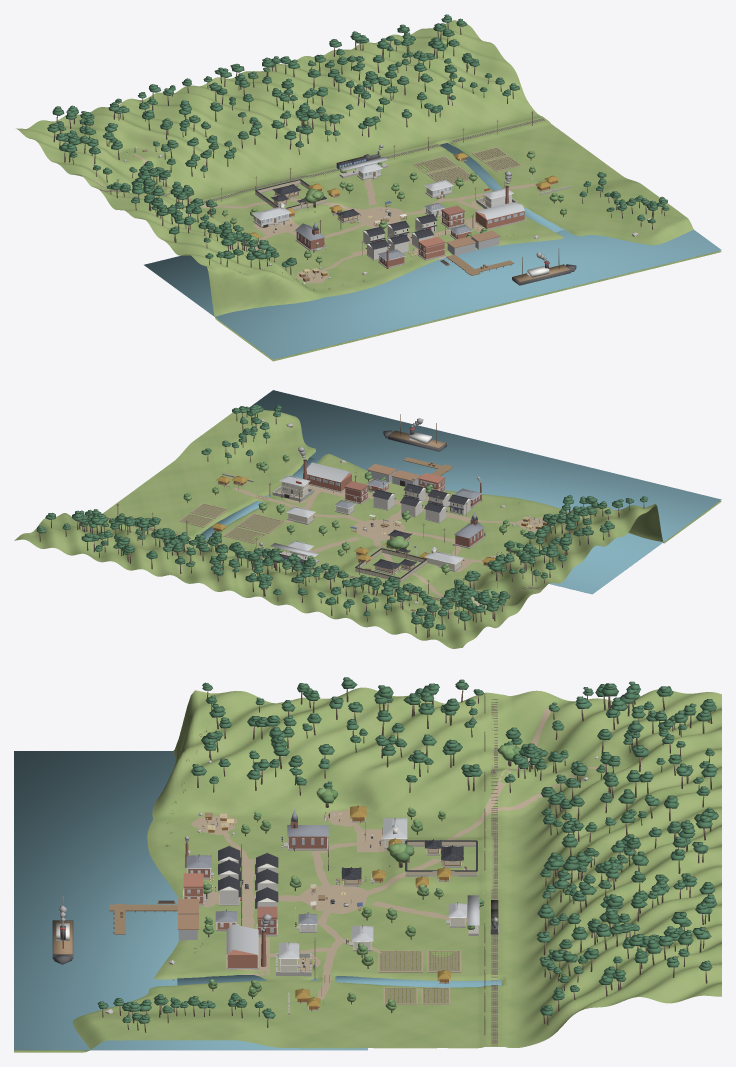
File: gaehang.glb
The picture shows the model from 3 angles, top to bottom: view 1: azimuth 30°, elevation 25°; view 2: azimuth 150°, elevation 25°; view 3: azimuth 270°, elevation 25°; orthographic projection. The views are drawn at different scales.
Parts seen in each view (by area): view 1: ground, static_water, static_pine, static_dirt, static_bark, static_tile, static_zinc, static_white, static_paddy, static_leaf2, static_wood, static_rice (+2 smaller); view 2: ground, static_water, static_pine, static_dirt, static_bark, static_tile, static_zinc, static_paddy, static_leaf2, static_white, static_rice, static_wood (+3 smaller); view 3: ground, static_water, static_pine, static_dirt, static_bark, static_zinc, static_tile, static_paddy, static_leaf2, static_slate, static_leaf, static_rice (+4 smaller).
Boxes of the visible parts, x1,y1,x2,y2 form: ground: (16, 20, 721, 361); static_water: (144, 143, 721, 359); static_pine: (47, 14, 669, 267); static_dirt: (90, 147, 536, 283); static_bark: (53, 23, 559, 277); static_tile: (255, 179, 437, 249); static_zinc: (252, 157, 524, 269); static_white: (220, 120, 549, 277); static_paddy: (415, 148, 519, 183); static_leaf2: (141, 151, 566, 262); static_wood: (117, 112, 569, 281); static_rice: (239, 148, 559, 290); ground: (14, 408, 721, 648); static_water: (200, 390, 721, 594); static_pine: (36, 404, 648, 629); static_dirt: (179, 484, 544, 611); static_bark: (39, 414, 644, 637); static_tile: (355, 483, 470, 578); static_zinc: (270, 462, 526, 564); static_paddy: (181, 504, 281, 542); static_leaf2: (183, 454, 526, 599); static_white: (152, 432, 498, 580); static_rice: (181, 457, 620, 542); static_wood: (117, 430, 547, 581); ground: (14, 687, 721, 1052); static_water: (14, 751, 501, 1050); static_pine: (97, 677, 718, 1023); static_dirt: (191, 707, 608, 1004); static_bark: (62, 689, 712, 1045); static_zinc: (224, 818, 479, 958); static_tile: (218, 839, 477, 908); static_paddy: (379, 951, 459, 1003); static_leaf2: (203, 744, 515, 1010); static_slate: (186, 810, 328, 924); static_leaf: (203, 746, 520, 1006); static_rice: (164, 728, 458, 1002).
Size of the model in its own units: 260 by 36.12 by 260.
Materials: 52 (6 with a texture image).
